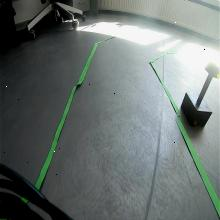green: (205, 59, 220, 80)
